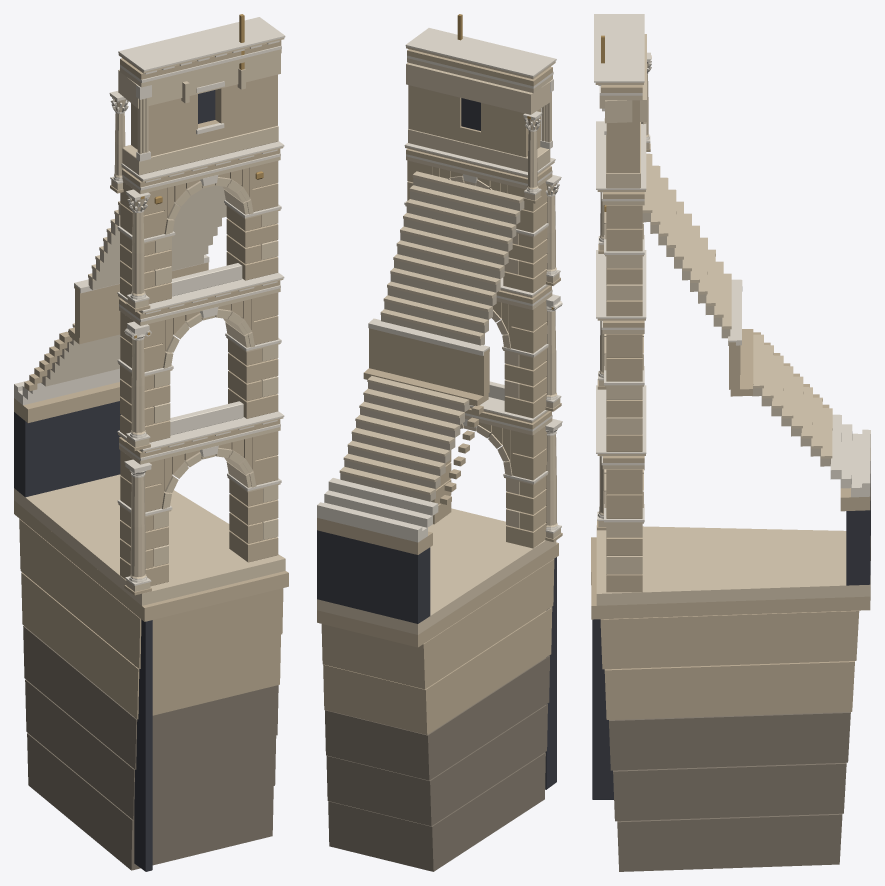
File: UMOD_01_Standard_Window_Bay.glb
The picture shows the model from 3 angles, left to right: view 1: azimuth 30°, elevation 25°; view 2: azimuth 150°, elevation 25°; view 3: azimuth 270°, elevation 25°; orthographic projection. The views are drawn at different scales.
Visible parts, largest first — view 1: UMOD_01_Standard_Window_Bay; view 2: UMOD_01_Standard_Window_Bay; view 3: UMOD_01_Standard_Window_Bay.
Boxes of the visible parts, x1=… form: UMOD_01_Standard_Window_Bay: x1=14, y1=14, x2=288, y2=871; UMOD_01_Standard_Window_Bay: x1=317, y1=14, x2=562, y2=871; UMOD_01_Standard_Window_Bay: x1=591, y1=14, x2=870, y2=871.
Size of the model in its own units: 18.44 by 96.54 by 29.96.
